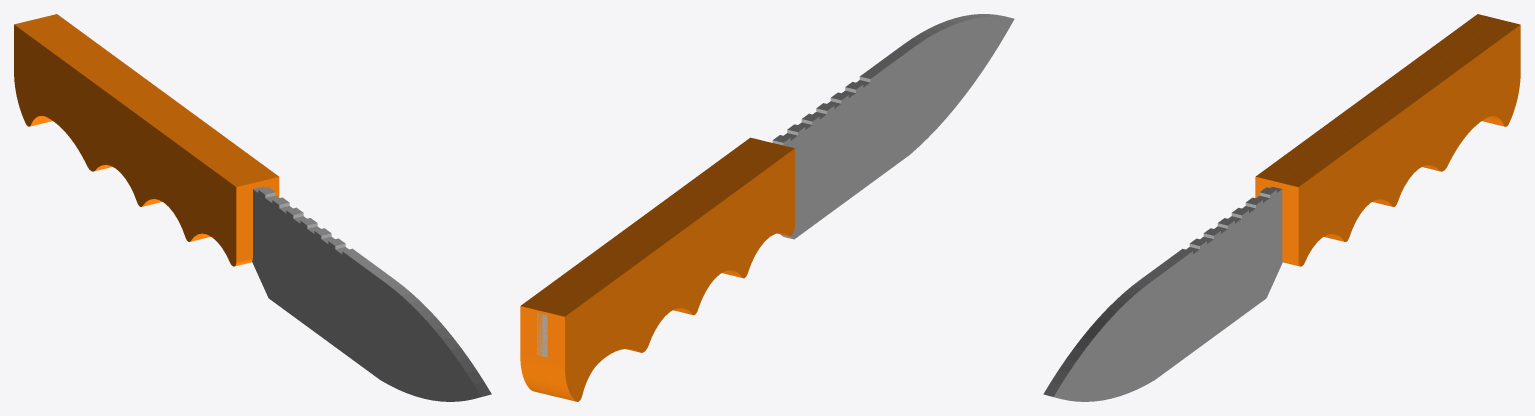
The model's file is model_scale.obj.
3 renders of one model, left to right at view 1: azimuth 30°, elevation 25°; view 2: azimuth 150°, elevation 25°; view 3: azimuth 330°, elevation 25°, orthographic. The views are drawn at different scales.
Parts seen in each view (by area): view 1: mesh2_mesh2-geometry, mesh1_mesh1-geometry, mesh3_mesh3-geometry; view 2: mesh2_mesh2-geometry, mesh1_mesh1-geometry, mesh3_mesh3-geometry; view 3: mesh3_mesh3-geometry, mesh1_mesh1-geometry, mesh2_mesh2-geometry.
Part boxes in pixels (box(x1,y1,x2,y2)): mesh2_mesh2-geometry: box(14, 19, 257, 266); mesh1_mesh1-geometry: box(252, 186, 491, 401); mesh3_mesh3-geometry: box(36, 14, 279, 197); mesh2_mesh2-geometry: box(542, 143, 794, 401); mesh1_mesh1-geometry: box(537, 14, 1014, 357); mesh3_mesh3-geometry: box(520, 137, 771, 396); mesh3_mesh3-geometry: box(1277, 19, 1520, 266); mesh1_mesh1-geometry: box(1043, 186, 1282, 401); mesh2_mesh2-geometry: box(1255, 14, 1498, 198).
Size of the model in its own units: 0.0132 by 0.0305 by 0.2404.
